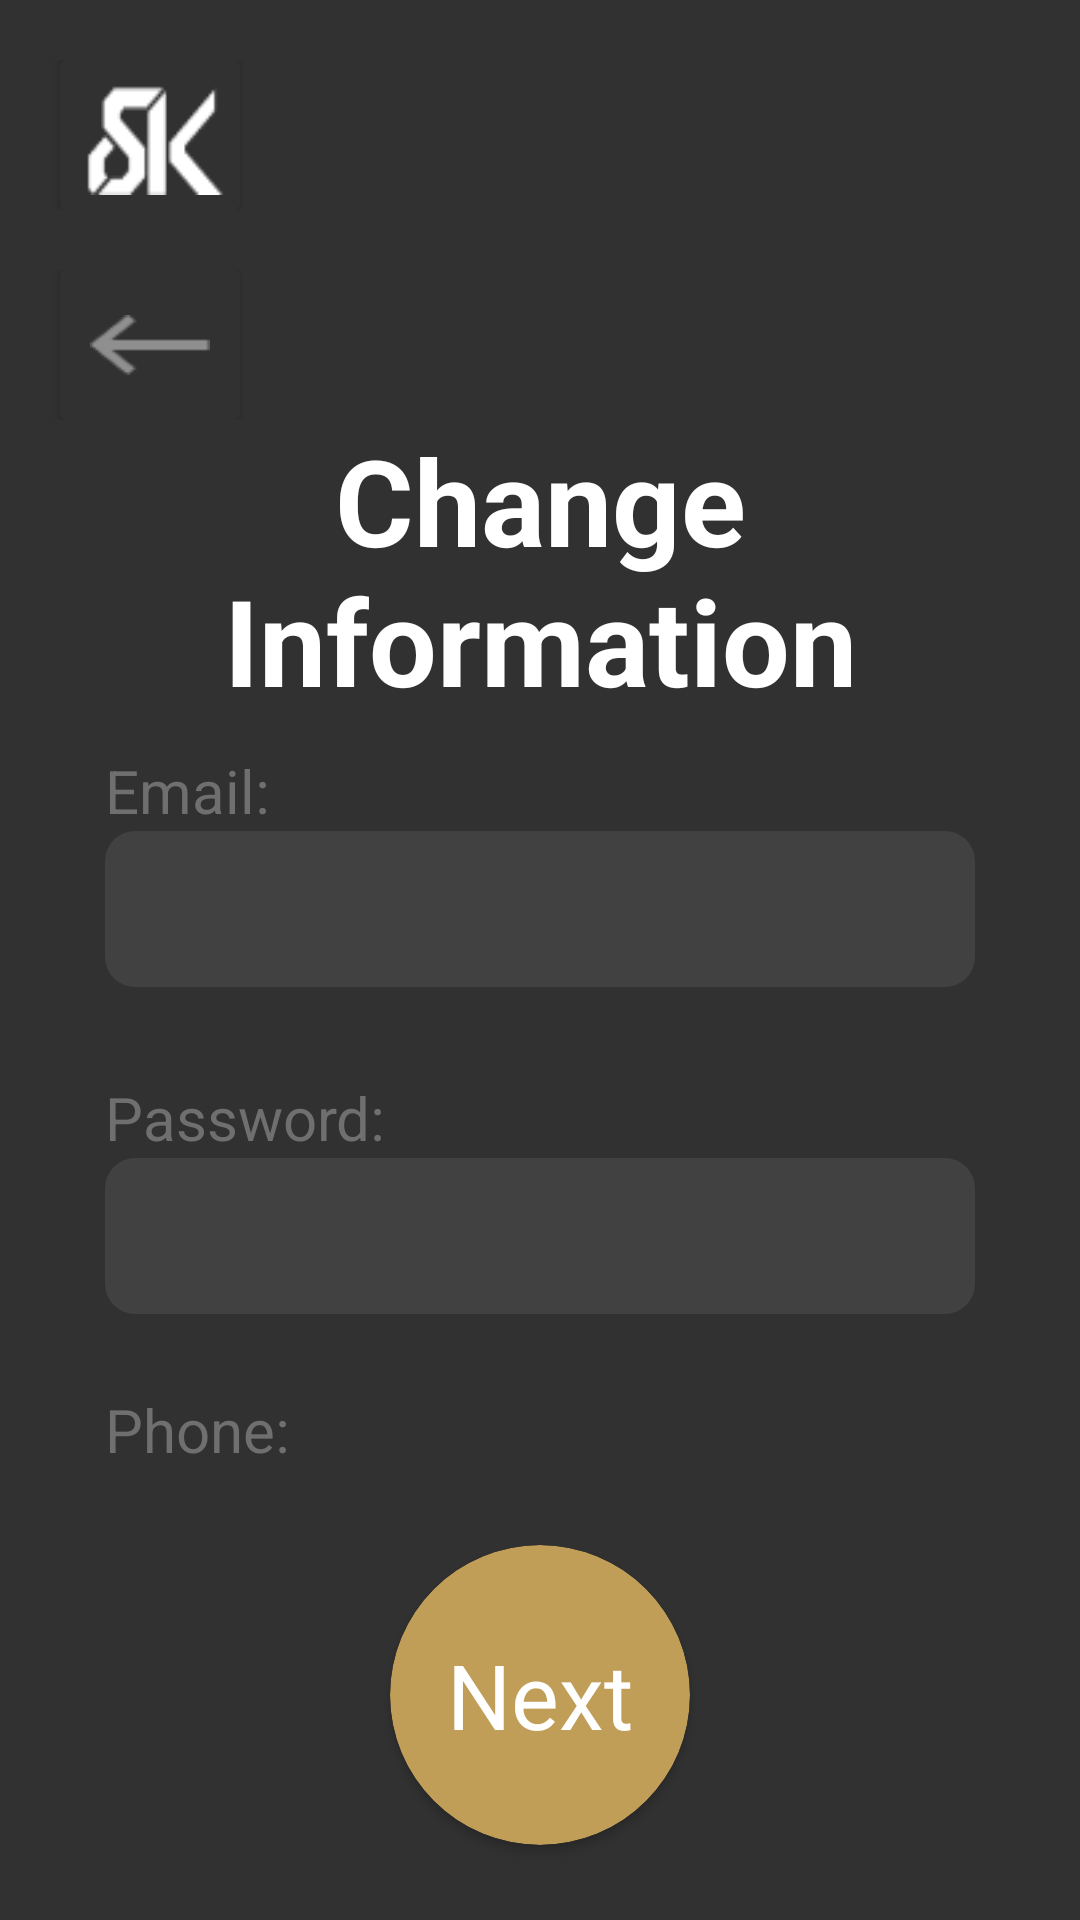

Point at icon controls on the screen. Image size 1080px x 1920px, points as [x,y].
turnback: [150,345]
